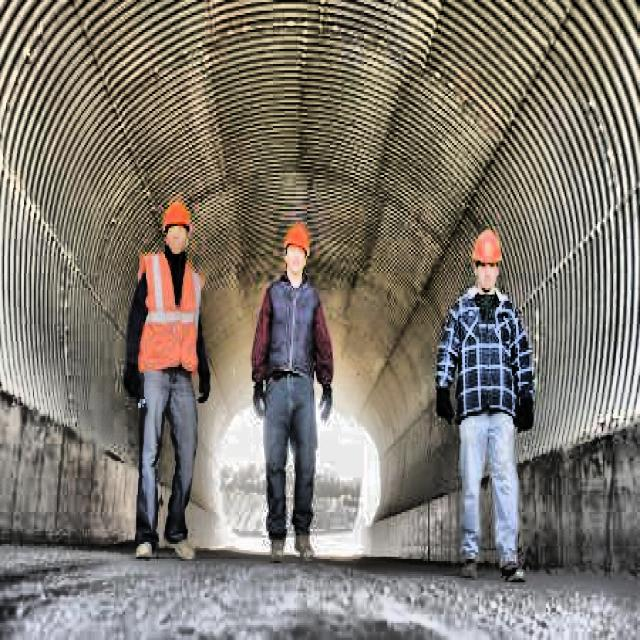helmet: (472, 222, 505, 290), (282, 224, 317, 282), (162, 198, 194, 260)
